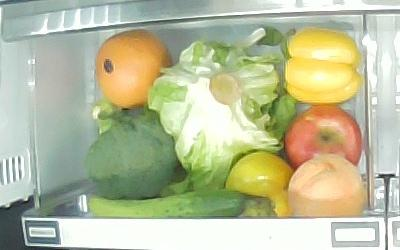apple: (285, 105, 362, 171)
broccoli: (87, 98, 178, 199)
cucumber: (88, 190, 245, 218)
grapefruit: (96, 29, 172, 108)
lettuce: (148, 40, 298, 189)
paprika: (280, 29, 362, 104)
peach: (288, 154, 364, 216)
persimmon: (226, 151, 295, 217)
